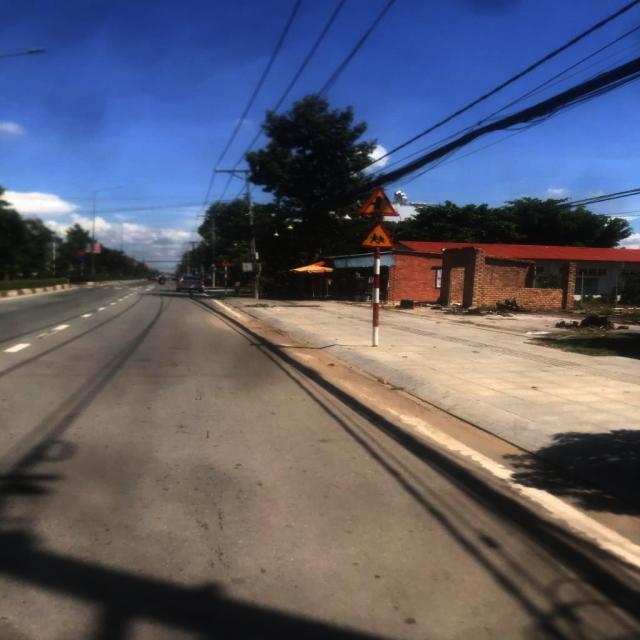207-giao-nhau-voi-duong-khong-uu-tien: (358, 187, 402, 217)
225-chu-y-tre-em: (360, 222, 396, 250)
